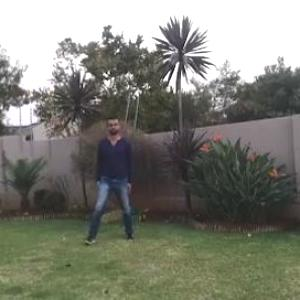follow: (96, 103, 137, 241)
